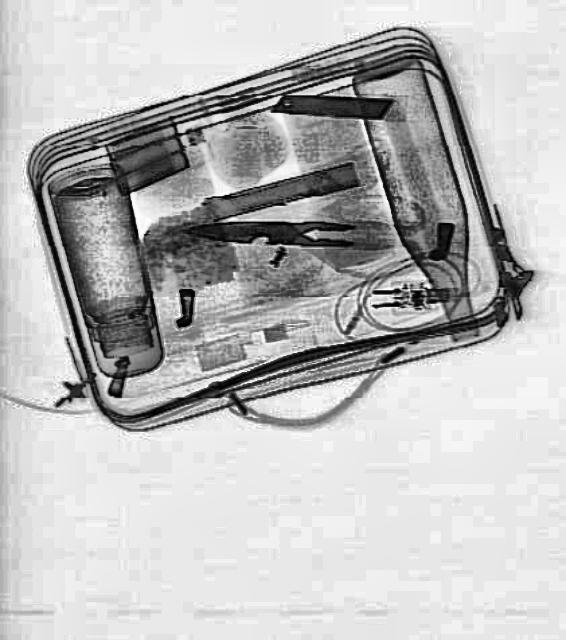Knife: (189, 216, 355, 248)
